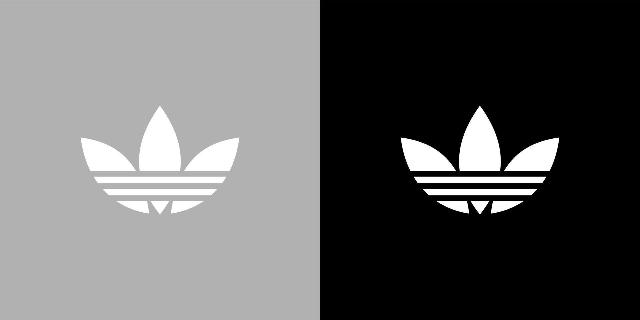Adidas: (384, 96, 570, 224), (78, 100, 248, 232)
